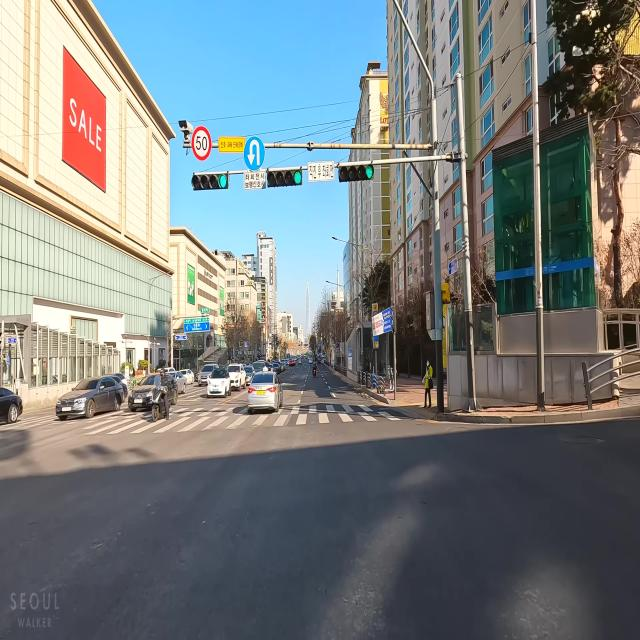Green Light: (292, 168, 302, 184), (218, 173, 227, 188), (365, 164, 373, 180)
